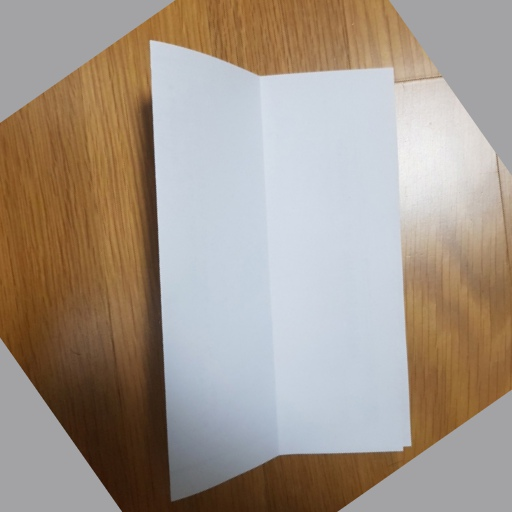Paper_3: (143, 34, 438, 505)
